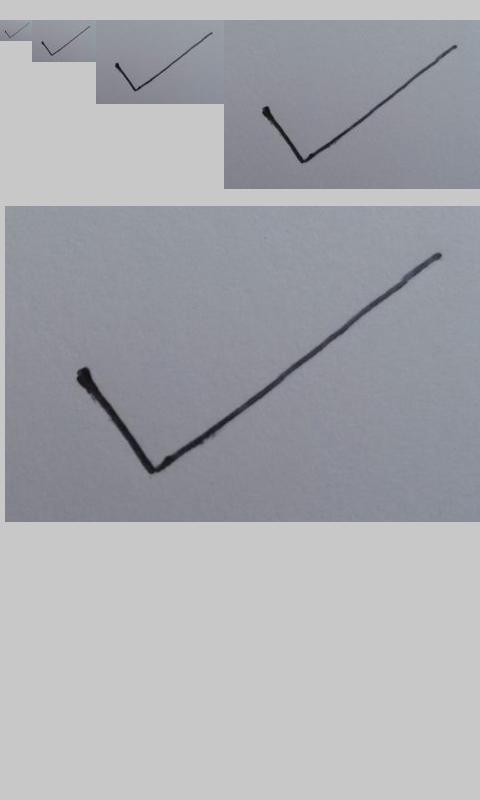check_box: (78, 255, 435, 475), (262, 45, 457, 163), (115, 32, 212, 91), (41, 26, 90, 56), (4, 23, 28, 39)
